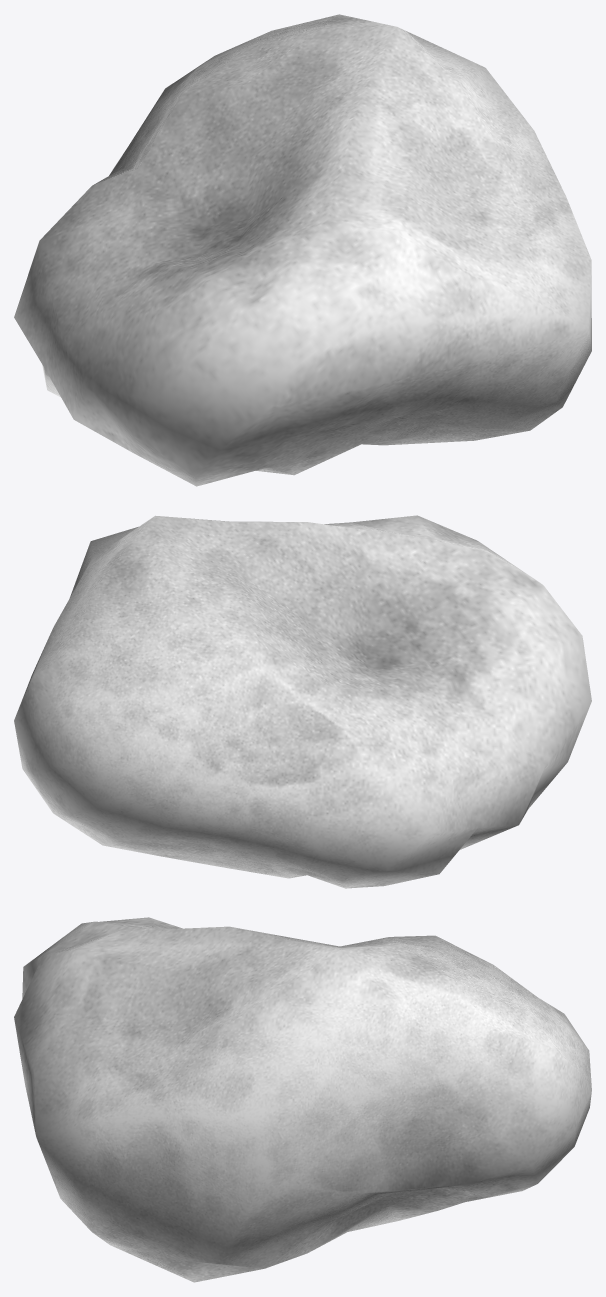
Rendered from Rock-2.fbx.
3 views of the same model, one above another, from view 1: azimuth 30°, elevation 25°; view 2: azimuth 150°, elevation 25°; view 3: azimuth 270°, elevation 25° (orthographic). The views are drawn at different scales.
Parts seen in each view (by area): view 1: Cube.003; view 2: Cube.003; view 3: Cube.003.
Boxes of the visible parts, <box> form: Cube.003: <box>14,14,591,486</box>; Cube.003: <box>14,515,591,888</box>; Cube.003: <box>14,917,591,1282</box>.
Bounding box in the file's own units: 172 × 117 × 191.
